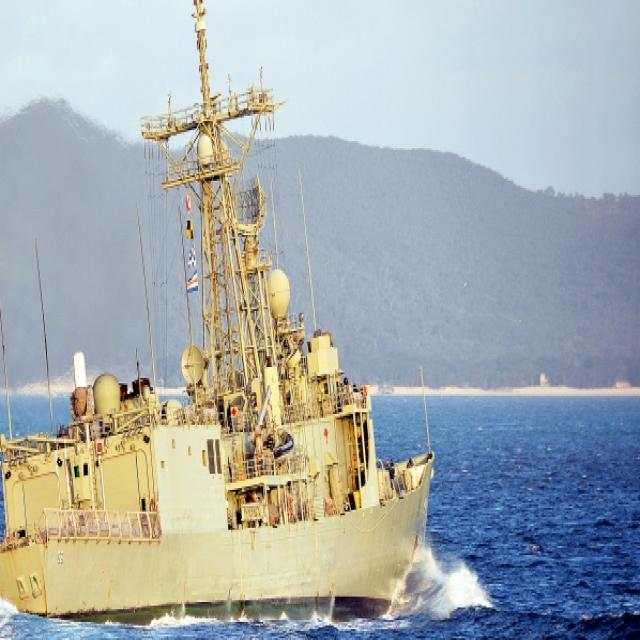Fragata: (1, 1, 444, 623)
